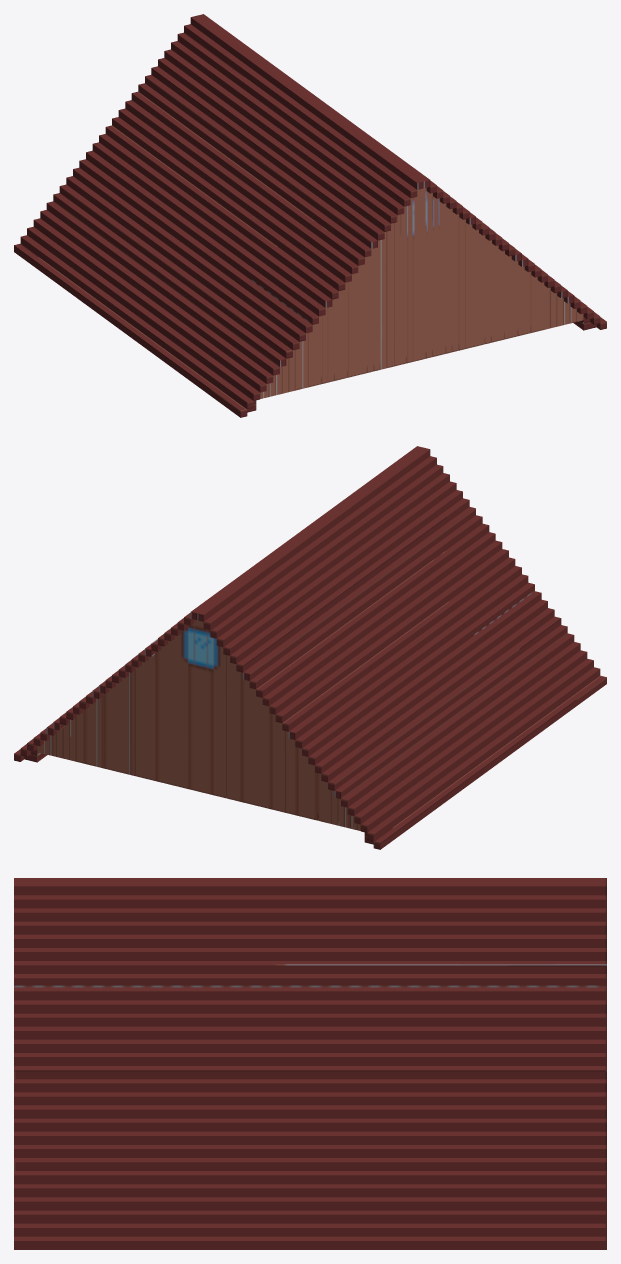
The model's file is Krishahome.fbx.
3 renders of one model, top to bottom at view 1: azimuth 30°, elevation 25°; view 2: azimuth 150°, elevation 25°; view 3: azimuth 270°, elevation 25°, orthographic. The views are drawn at different scales.
Parts seen in each view (by area): view 1: cube_23, cube_14, cube_5, cube_19, cube_18, cube_10, cube_12, cube_25, cube_17, cube_27, cube_26, cube_16 (+45 smaller); view 2: cube_23, cube_14, cube_5, cube_19, cube_18, cube_10, cube_12, cube_25, cube_17, cube_27, cube_26, cube_16 (+45 smaller); view 3: cube_41, cube_48, cube_55, cube_33, cube_40, cube_47, cube_54, cube_32, cube_38, cube_46, cube_53, cube_31 (+17 smaller).
Part boxes in pixels (<box>): cube_23: <box>164,49,397,223</box>; cube_14: <box>105,125,338,299</box>; cube_5: <box>46,201,279,375</box>; cube_19: <box>138,83,371,257</box>; cube_18: <box>131,91,364,265</box>; cube_10: <box>79,159,312,333</box>; cube_12: <box>92,142,325,316</box>; cube_25: <box>177,32,410,206</box>; cube_17: <box>125,100,358,274</box>; cube_27: <box>190,15,423,189</box>; cube_26: <box>184,24,417,198</box>; cube_16: <box>118,108,351,282</box>; cube_23: <box>223,481,456,655</box>; cube_14: <box>282,557,515,731</box>; cube_5: <box>341,633,574,807</box>; cube_19: <box>249,515,482,689</box>; cube_18: <box>256,523,489,697</box>; cube_10: <box>308,591,541,765</box>; cube_12: <box>295,574,528,748</box>; cube_25: <box>210,464,443,638</box>; cube_17: <box>262,532,495,706</box>; cube_27: <box>197,447,430,621</box>; cube_26: <box>203,456,436,630</box>; cube_16: <box>269,540,502,714</box>; cube_41: <box>14,1066,606,1079</box>; cube_48: <box>14,974,606,987</box>; cube_55: <box>14,882,606,895</box>; cube_33: <box>14,1171,606,1184</box>; cube_40: <box>14,1079,606,1092</box>; cube_47: <box>14,987,606,1000</box>; cube_54: <box>14,895,606,908</box>; cube_32: <box>14,1184,606,1197</box>; cube_38: <box>14,1092,606,1105</box>; cube_46: <box>14,1000,606,1013</box>; cube_53: <box>14,908,606,921</box>; cube_31: <box>14,1197,606,1210</box>.
Size of the model in its own units: 700 by 350 by 750.
